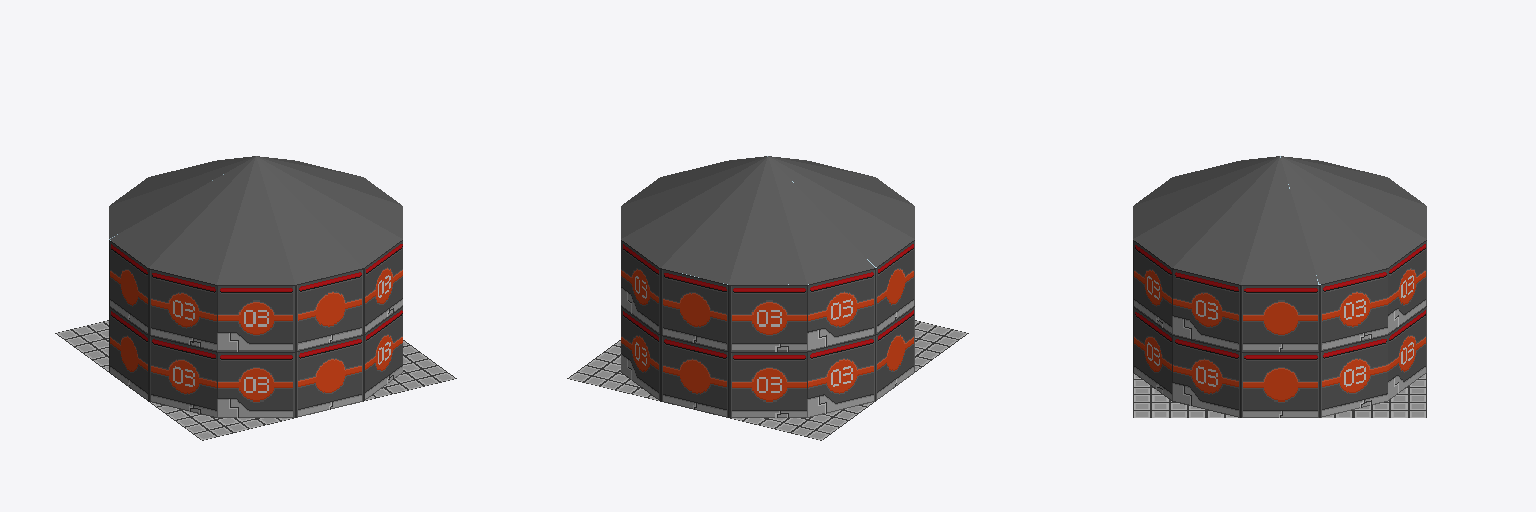
3 views of the same model, side by side, from view 1: azimuth 30°, elevation 25°; view 2: azimuth 150°, elevation 25°; view 3: azimuth 270°, elevation 25° (orthographic).
Parts seen in each view (by area): view 1: tube, cone, plane; view 2: tube, cone, plane; view 3: tube, cone, plane.
Boxes of the visible parts, x1,y1,x2,y2 form: tube: [109, 240, 402, 417]; cone: [109, 156, 402, 284]; plane: [55, 320, 456, 440]; tube: [621, 240, 914, 417]; cone: [621, 156, 914, 284]; plane: [567, 320, 968, 440]; tube: [1133, 240, 1426, 417]; cone: [1133, 156, 1426, 284]; plane: [1133, 373, 1426, 417].
Size of the model in its own units: 2 by 1.5 by 2.
4 materials, 4 textured.